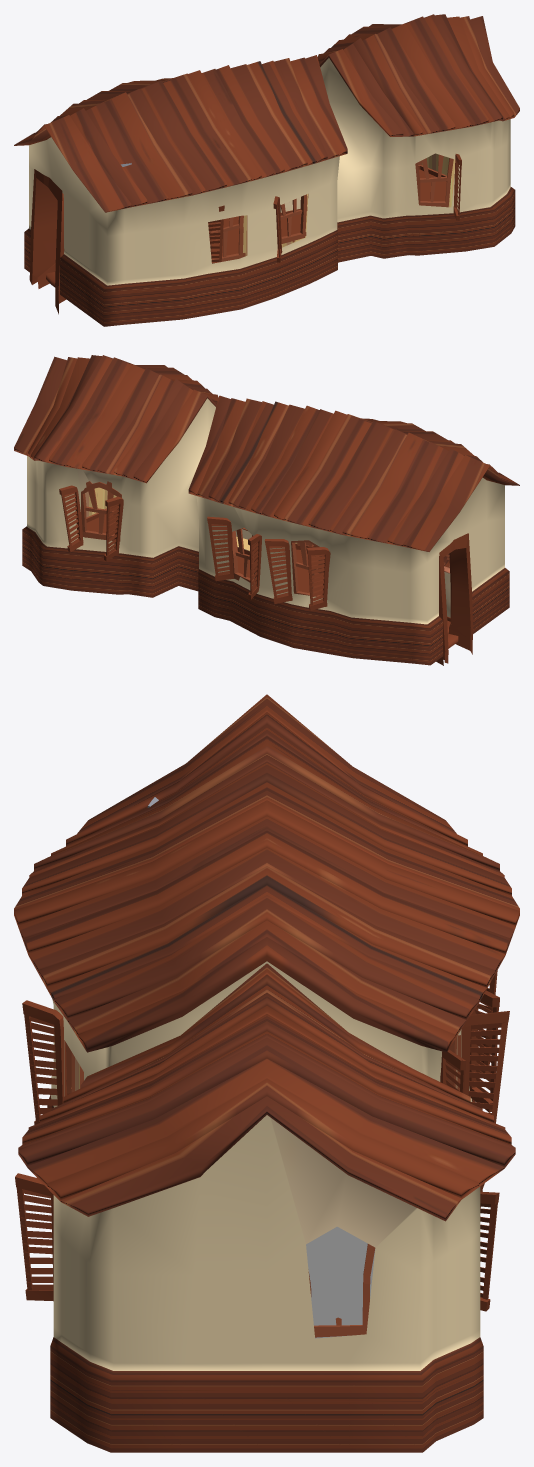
The model's file is home.gltf.
The picture shows the model from 3 angles, top to bottom: view 1: azimuth 30°, elevation 25°; view 2: azimuth 150°, elevation 25°; view 3: azimuth 270°, elevation 25°; orthographic projection. The views are drawn at different scales.
Parts seen in each view (by area): view 1: HouseExterior; view 2: HouseExterior; view 3: HouseExterior.
Boxes of the visible parts, x1=… form: HouseExterior: x1=14, y1=14, x2=519, y2=326; HouseExterior: x1=14, y1=355, x2=519, y2=665; HouseExterior: x1=14, y1=694, x2=519, y2=1452.
Bounding box in the file's own units: 27.55 × 12.7 × 14.06.
2 materials, 1 textured.
